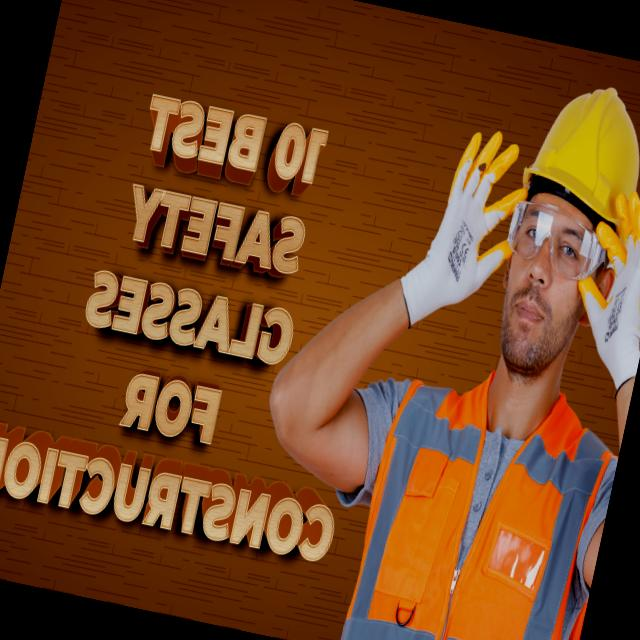goggles: (501, 198, 606, 285)
helmet: (516, 82, 640, 215)
